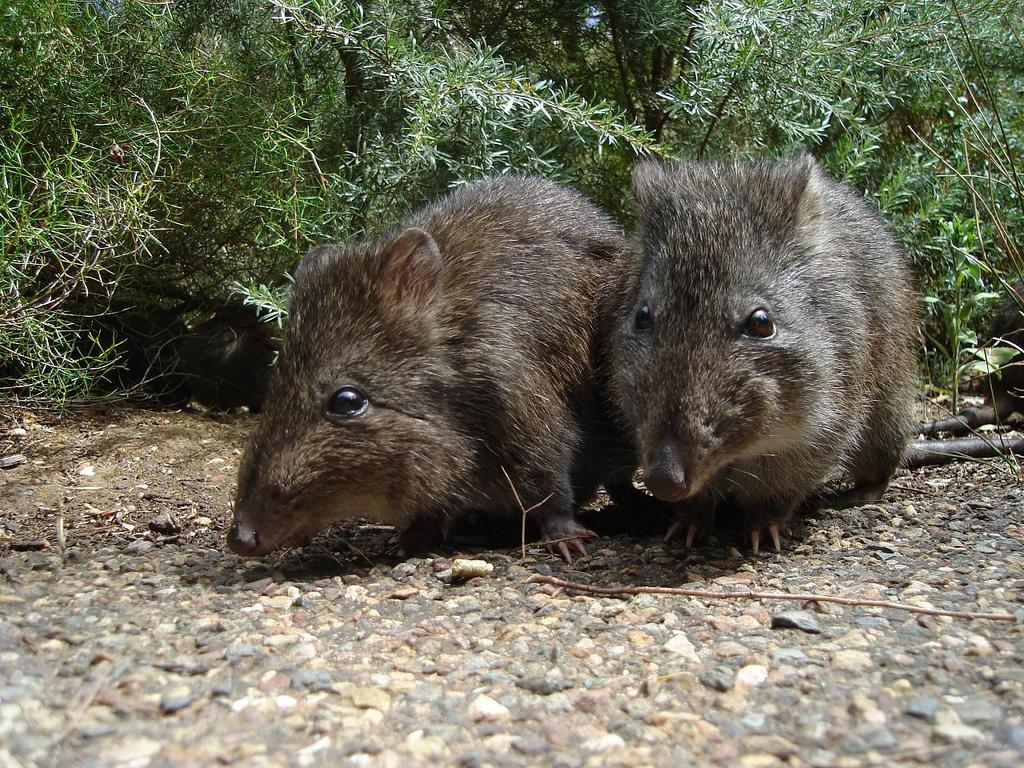Tree: (0, 0, 1024, 414)
